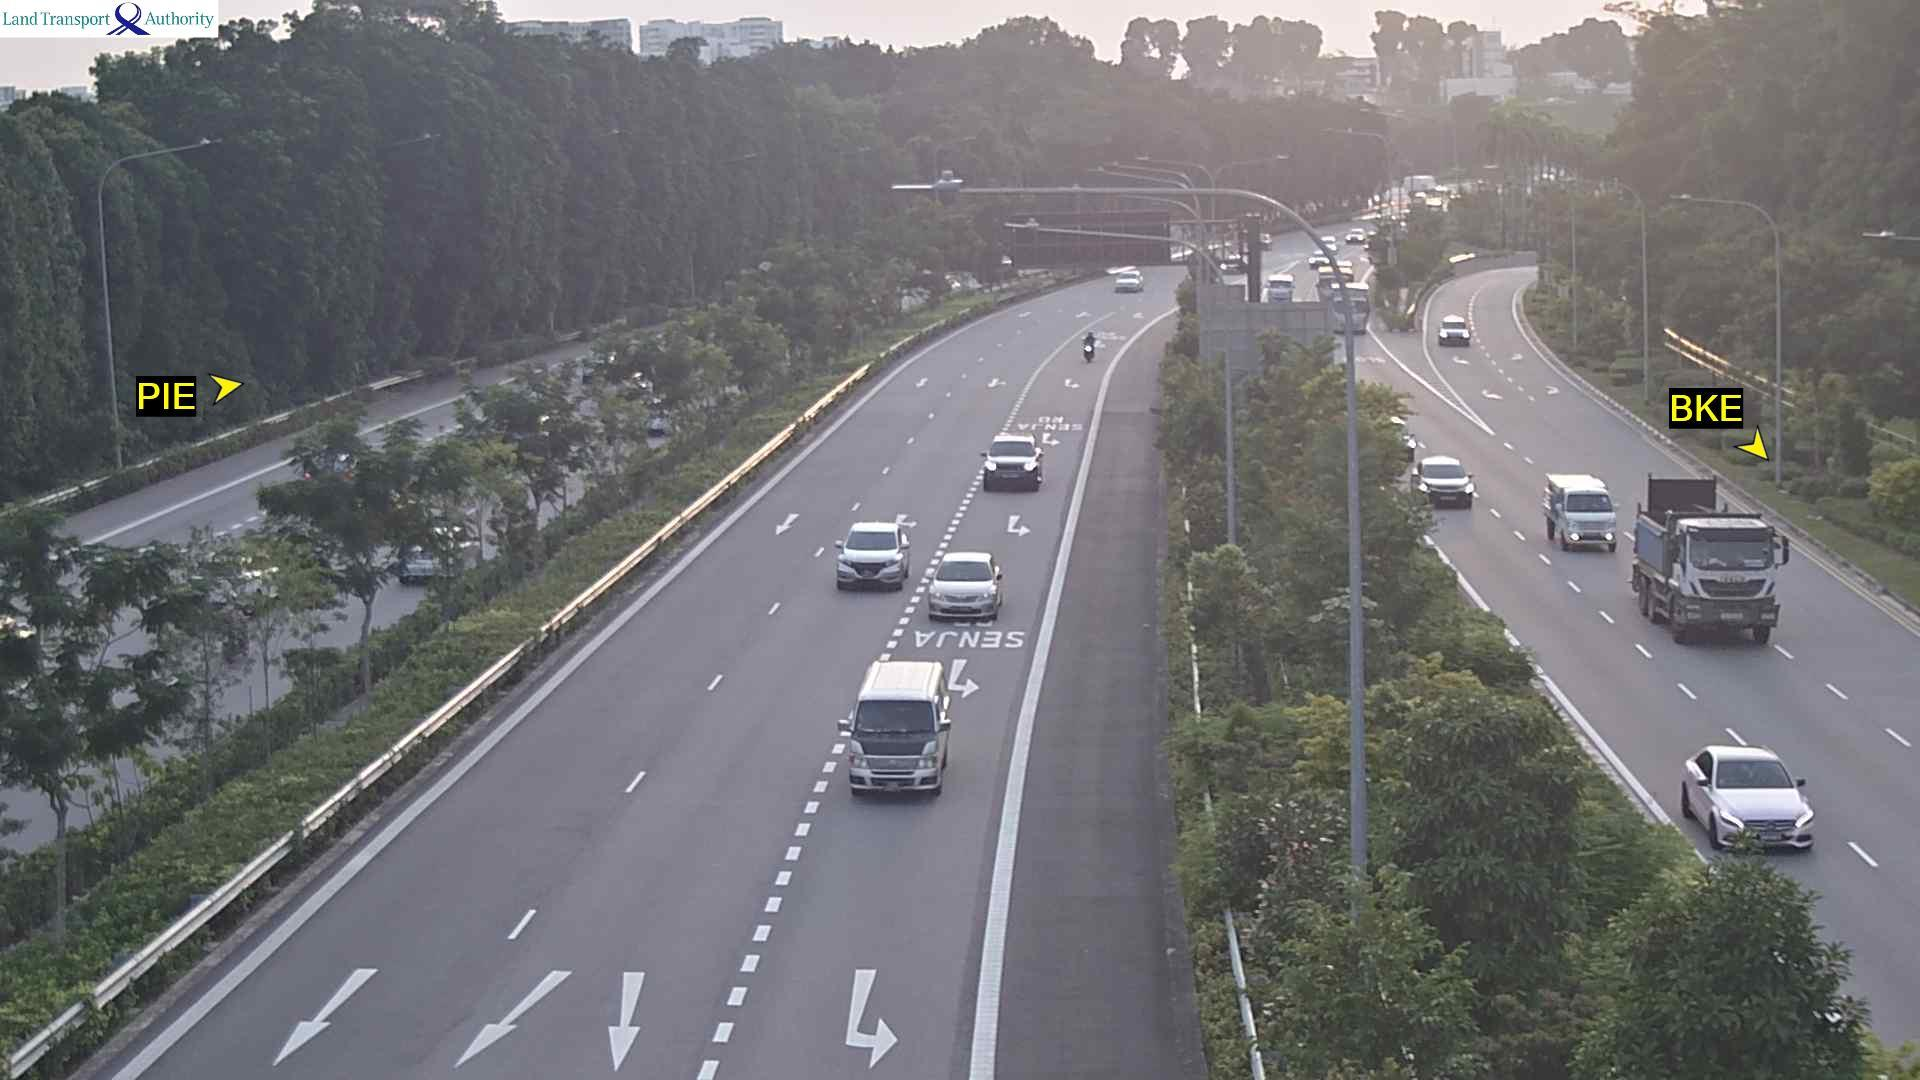incoming: (1665, 520, 1789, 653), (837, 694, 957, 802), (1698, 753, 1817, 853), (836, 526, 915, 589), (923, 558, 1004, 620), (1559, 484, 1625, 554), (1412, 459, 1486, 517), (981, 444, 1044, 492), (1333, 301, 1375, 340), (1436, 320, 1478, 353), (1262, 276, 1299, 303), (1112, 270, 1145, 290), (1084, 334, 1095, 361)
